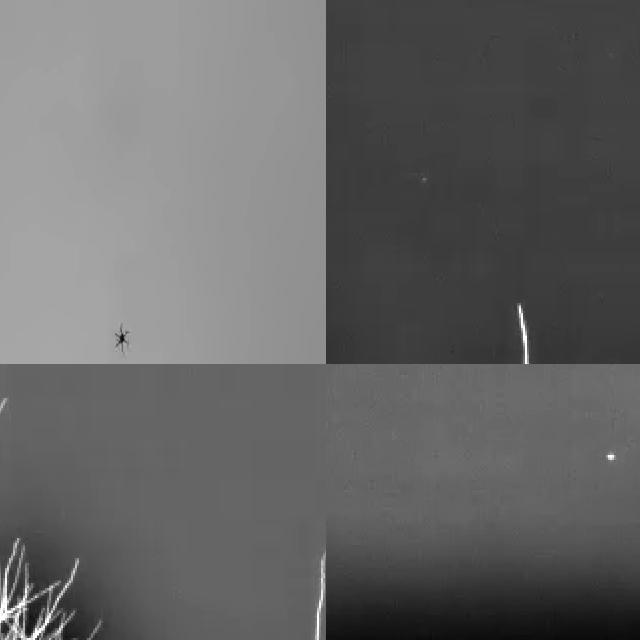0: (418, 168, 440, 196)
1: (603, 448, 627, 472)
drone: (110, 317, 134, 355)
